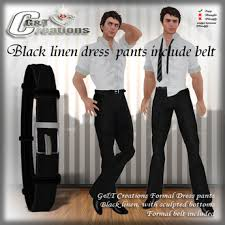F_belt: (92, 87, 133, 103)
F_dress pants: (142, 85, 217, 204), (86, 94, 134, 213)
F_shirt: (66, 32, 151, 91), (142, 35, 208, 103)
